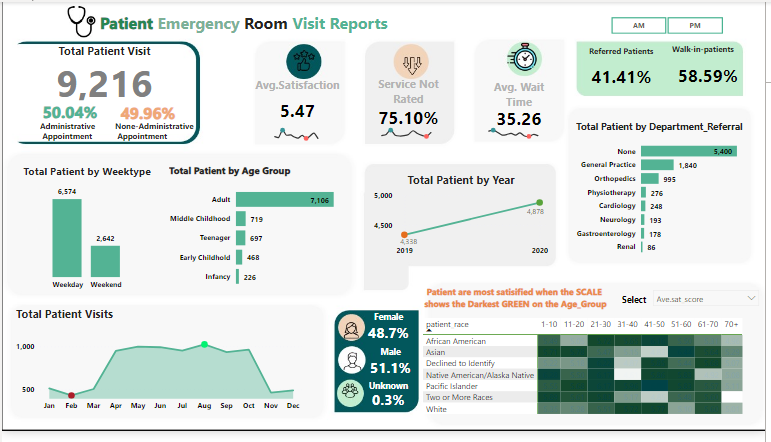

Layout of this report page (visuals, bound fields, positions):
{"tool":"powerbi","page":{"name":"Page 1","canvas":[1280,720],"ordinal":0},"visuals":[{"type":"card","title":"Total Patient Visit","fields":{"Values":["Measures (2).TotalPatient"]},"box":[47,68.8,250,100.7],"z":0},{"type":"card","fields":{"Values":["Measures (2).%Adminstrative Shedule"]},"box":[45.3,157.7,137.6,55.4],"z":1000},{"type":"card","title":"Avg.Satisfaction","fields":{"Values":["Measures (2).Average sat_score"]},"box":[409.3,125.8,172.8,88.9],"z":2000},{"type":"card","fields":{"Values":["Measures (2).Non_Admini"]},"box":[169.4,156,151,60.4],"z":3000},{"type":"card","title":"Service Not Rated","fields":{"Values":["Measures (2).% No Rating"]},"box":[620.7,124.1,122.5,88.9],"z":4000},{"type":"pivotTable","fields":{"Values":["Measures (2).Average sat_score"],"Rows":["Hospital ER.patient_race"],"Columns":["Hospital ER.Age bucket"]},"box":[701.2,525.1,578.8,194.6],"z":5000},{"type":"slicer","fields":{"Values":["Parameter.Parameter"]},"box":[1082,473.1,198,36.9],"z":6000},{"type":"barChart","title":"Total Patient by Age Group","fields":{"Y":["Measures (2).TotalPatient"],"Category":["Hospital ER.Age group"]},"box":[275.1,271.8,307,219.8],"z":7000},{"type":"areaChart","title":"Total Patient Visits","fields":{"Category":["Date.month"],"Y":["Measures (2).TotalPatient"]},"box":[18.5,510,489.9,184.5],"z":8000},{"type":"slicer","fields":{"Values":["Hospital ER.Moments"]},"box":[996.5,18.5,236.5,35.2],"z":9000},{"type":"lineChart","title":"Total Patient by Year","fields":{"Category":["Date.Year"],"Y":["Measures (2).TotalPatient"]},"box":[619,285.2,302,149.3],"z":10000},{"type":"clusteredBarChart","title":"Total Patient by Department_Referral","fields":{"Y":["Measures (2).TotalPatient"],"Category":["Hospital ER.department_referral"]},"box":[957.9,198,315.4,236.5],"z":11000},{"type":"card","fields":{"Values":["Measures (2).% unreferred Patients"]},"box":[1124,88.9,120.8,70.5],"z":12000},{"type":"card","fields":{"Values":["Measures (2).% referred Patients"]},"box":[973,87.2,132.5,75.5],"z":13000},{"type":"card","fields":{"Values":["Measures (2).Hitmap cap"]},"box":[682.8,461.3,357.3,67.1],"z":14000},{"type":"textbox","box":[58.7,194.9,112.4,45.3],"z":15000},{"type":"textbox","box":[184.5,194.9,157.7,45.3],"z":16000},{"type":"card","title":"Avg. Wait Time","fields":{"Values":["Measures (2).Avg.waittime"]},"box":[805.2,129.2,124.1,83.9],"z":17000},{"type":"textbox","box":[978.9,68.7,122.5,45.3],"z":18000},{"type":"textbox","box":[1118.1,65.4,122.5,45.3],"z":19000},{"type":"clusteredColumnChart","title":"Total Patient by Weektype","fields":{"Y":["Measures (2).TotalPatient"],"Category":["Date.Weektype"]},"box":[21.8,271.8,241.6,219.8],"z":20000},{"type":"card","title":"Female","fields":{"Values":["Measures (2).%Female Visit"]},"box":[598.9,516.7,99,57],"z":21000},{"type":"card","title":"Male","fields":{"Values":["Measures (2).%Male Visit"]},"box":[602.3,575.4,99,57],"z":22000},{"type":"card","title":"Unknown","fields":{"Values":["Cf (Month).% Unknown"]},"box":[597.2,632.5,102,52],"z":23000},{"type":"PBI_CV_25997FEB_F466_44FA_B562_AC4063283C4C","fields":{"measure":["Measures (2).Average sat_score"],"axis":["Date.month"]},"box":[439.5,198,112.4,41.9],"z":24000},{"type":"PBI_CV_25997FEB_F466_44FA_B562_AC4063283C4C","fields":{"measure":["Measures (2).Avg.waittime"],"axis":["Date.month"]},"box":[798.5,198,122.5,38.6],"z":25000},{"type":"PBI_CV_25997FEB_F466_44FA_B562_AC4063283C4C","fields":{"measure":["Measures (2).% No Rating"],"axis":["Date.month"]},"box":[619,198,122.5,38.6],"z":26000},{"type":"textbox","box":[1018.3,483.1,83.9,31.9],"z":27000},{"type":"textbox","box":[159.4,11.7,548.6,50.3],"z":28000}]}

Visuals, with their boxes in screenshot pixels (x1, y1, x2, y2), scaled from the page's 1280x720 canvas onto the 771x442 screenshot:
"Total Patient Visit" card: x1=28 y1=42 x2=179 y2=104
card - Measures (2).%Adminstrative Shedule: x1=27 y1=97 x2=110 y2=131
"Avg.Satisfaction" card: x1=247 y1=77 x2=351 y2=132
card - Measures (2).Non_Admini: x1=102 y1=96 x2=193 y2=133
"Service Not Rated" card: x1=374 y1=76 x2=448 y2=131
pivotTable - Measures (2).Average sat_score x Hospital ER.patient_race: x1=422 y1=322 x2=770 y2=441
slicer - Parameter.Parameter: x1=652 y1=290 x2=770 y2=313
"Total Patient by Age Group" barChart: x1=166 y1=167 x2=351 y2=302
"Total Patient Visits" areaChart: x1=11 y1=313 x2=306 y2=426
slicer - Hospital ER.Moments: x1=600 y1=11 x2=743 y2=33
"Total Patient by Year" lineChart: x1=373 y1=175 x2=555 y2=267
"Total Patient by Department_Referral" clusteredBarChart: x1=577 y1=122 x2=767 y2=267
card - Measures (2).% unreferred Patients: x1=677 y1=55 x2=750 y2=98
card - Measures (2).% referred Patients: x1=586 y1=54 x2=666 y2=100
card - Measures (2).Hitmap cap: x1=411 y1=283 x2=626 y2=324
textbox: x1=35 y1=120 x2=103 y2=147
textbox: x1=111 y1=120 x2=206 y2=147
"Avg. Wait Time" card: x1=485 y1=79 x2=560 y2=131
textbox: x1=590 y1=42 x2=663 y2=70
textbox: x1=673 y1=40 x2=747 y2=68
"Total Patient by Weektype" clusteredColumnChart: x1=13 y1=167 x2=159 y2=302
"Female" card: x1=361 y1=317 x2=420 y2=352
"Male" card: x1=363 y1=353 x2=422 y2=388
"Unknown" card: x1=360 y1=388 x2=421 y2=420
PBI_CV_25997FEB_F466_44FA_B562_AC4063283C4C - Measures (2).Average sat_score x Date.month: x1=265 y1=122 x2=332 y2=147
PBI_CV_25997FEB_F466_44FA_B562_AC4063283C4C - Measures (2).Avg.waittime x Date.month: x1=481 y1=122 x2=555 y2=145
PBI_CV_25997FEB_F466_44FA_B562_AC4063283C4C - Measures (2).% No Rating x Date.month: x1=373 y1=122 x2=447 y2=145
textbox: x1=613 y1=297 x2=664 y2=316
textbox: x1=96 y1=7 x2=426 y2=38
